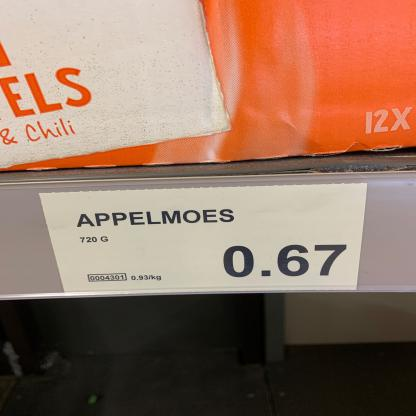prtg: (40, 184, 368, 298)
